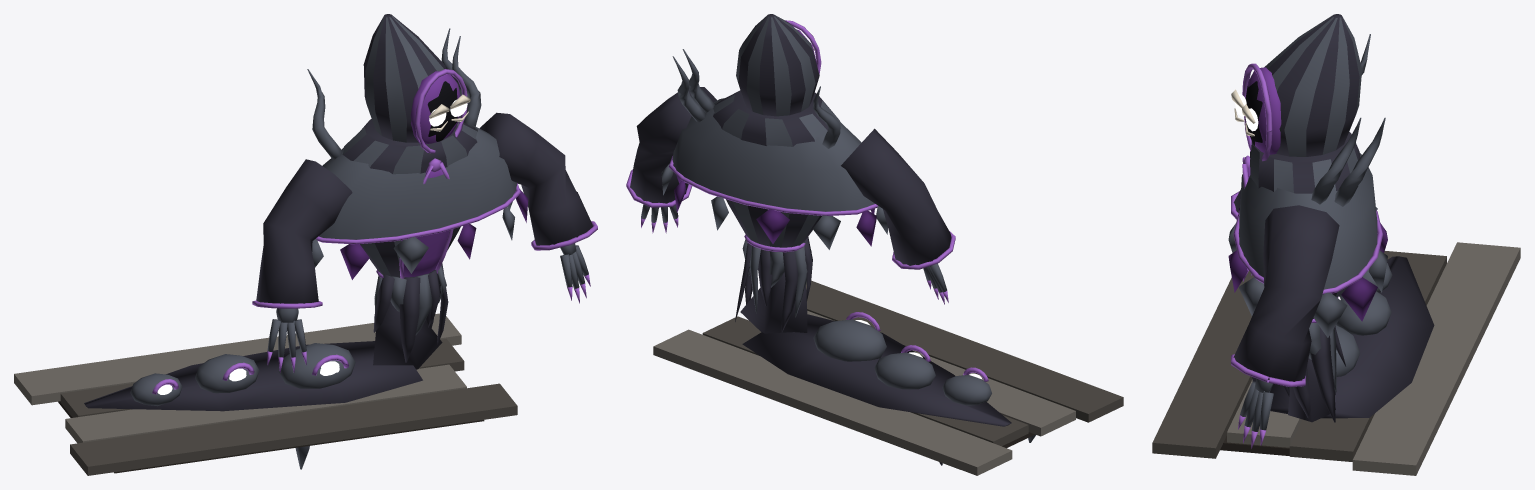
File: lurker-long-shadow.glb
3 views of the same model, side by side, from view 1: azimuth 30°, elevation 25°; view 2: azimuth 150°, elevation 25°; view 3: azimuth 270°, elevation 25° (orthographic). The views are drawn at different scales.
Visible parts, largest first — view 1: lurker_long_shadow, sway_arm_r, turn_head, sway_arm_l, sway_hem_front, sway_wisps, sway_hem_r; view 2: lurker_long_shadow, sway_arm_r, turn_head, sway_arm_l, sway_hem_back, sway_wisps, sway_hem_r; view 3: lurker_long_shadow, sway_arm_l, turn_head, sway_wisps, sway_hem_back, sway_hem_l.
Part boxes in pixels (box(x1,y1,x2,y2)): lurker_long_shadow: box(14, 119, 528, 475); sway_arm_r: box(252, 159, 352, 372); turn_head: box(363, 14, 470, 153); sway_arm_l: box(479, 112, 597, 303); sway_hem_front: box(390, 266, 446, 362); sway_wisps: box(307, 28, 481, 160); sway_hem_r: box(373, 273, 394, 332); lurker_long_shadow: box(653, 90, 1123, 475); sway_arm_r: box(841, 128, 955, 304); turn_head: box(736, 14, 821, 116); sway_arm_l: box(626, 87, 717, 233); sway_hem_back: box(735, 243, 798, 333); sway_wisps: box(672, 49, 840, 148); sway_hem_r: box(794, 237, 812, 317); lurker_long_shadow: box(1152, 131, 1520, 475); sway_arm_l: box(1231, 205, 1339, 448); turn_head: box(1231, 14, 1362, 161); sway_wisps: box(1311, 34, 1385, 206); sway_hem_back: box(1311, 325, 1345, 422); sway_hem_l: box(1293, 323, 1321, 417).
Bounding box in the file's own units: 1.41 × 1.07 × 0.7565.
